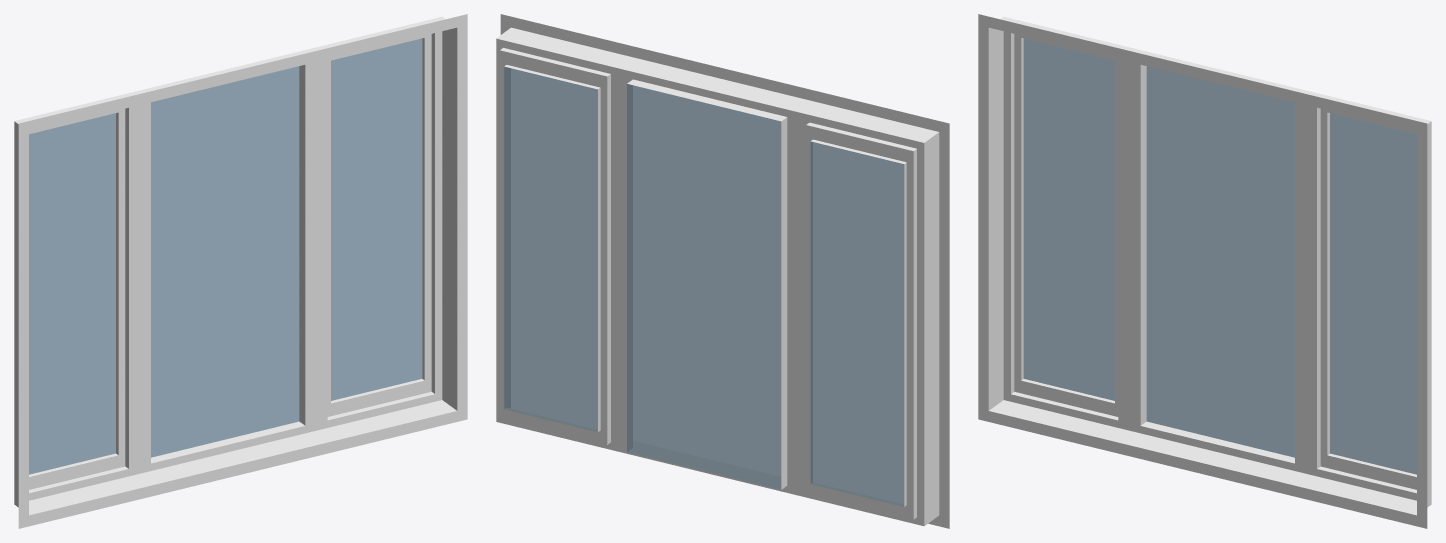
Rendered from p-44-window-3-pane.fbx.
The picture shows the model from 3 angles, left to right: view 1: azimuth 30°, elevation 25°; view 2: azimuth 150°, elevation 25°; view 3: azimuth 330°, elevation 25°; orthographic projection.
Parts seen in each view (by area): view 1: window; view 2: window; view 3: window.
Part boxes in pixels (left/top/right/bottom): window: left=14, top=14, right=467, bottom=528; window: left=496, top=14, right=949, bottom=528; window: left=978, top=14, right=1431, bottom=528.
Size of the model in its own units: 190 by 163 by 15.32.
